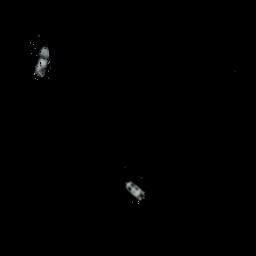boat: (30, 40, 52, 81), (121, 176, 146, 205)
